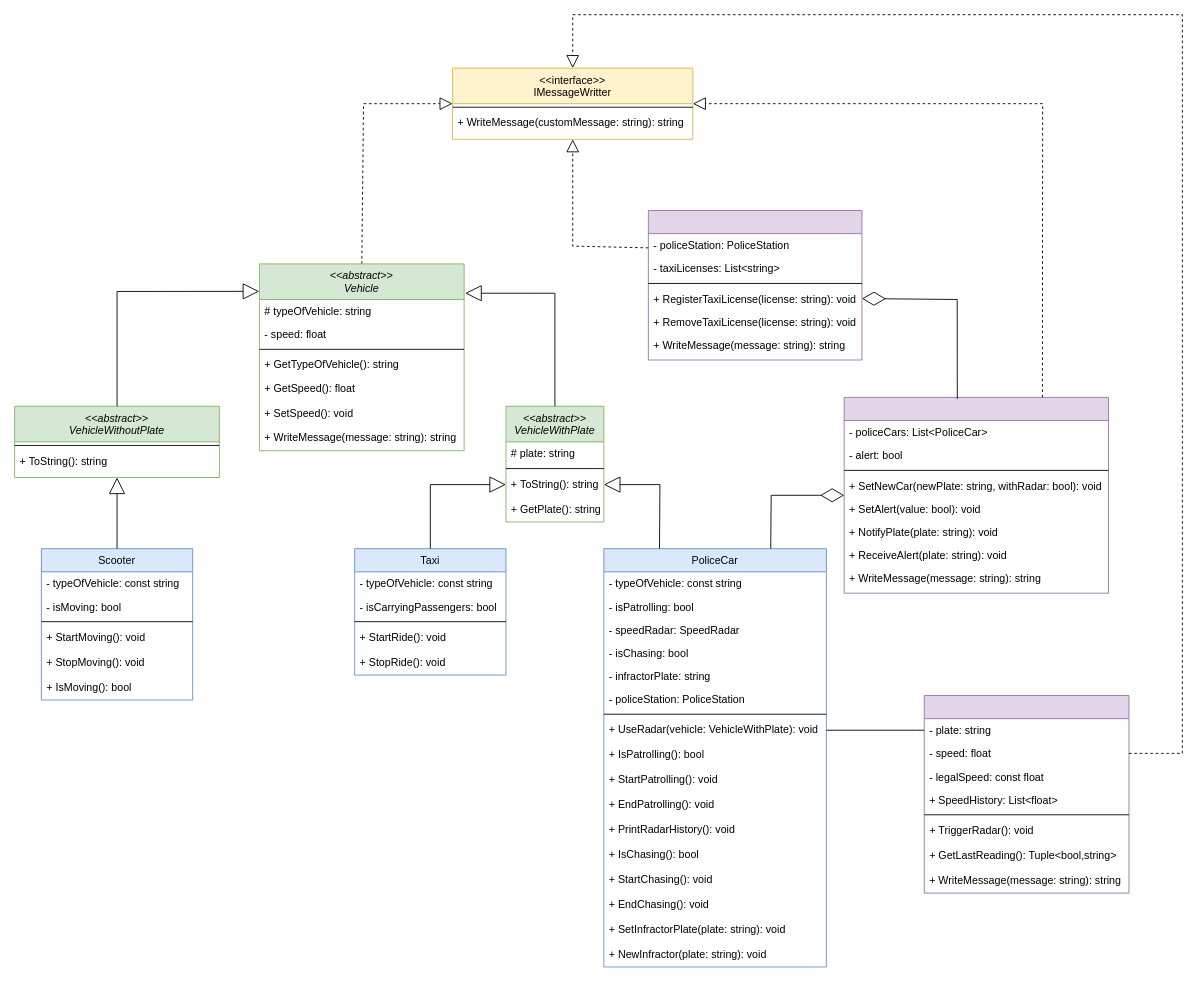
Image size: 1197x982. Some labels were removed from this diagram. Here are the shapes that lost their labels. From the top down, the box of each, then its label:
(647, 210, 862, 360): City
(843, 396, 1108, 593): Police Station
(923, 695, 1129, 893): SpeedRadar
